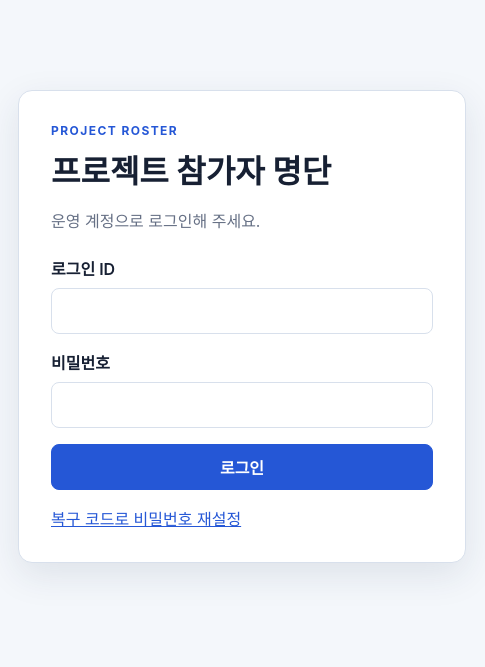
Test case: does not change a password when the confirmation differs
This screenshot has width=485, height=667.
Type "manager-01" into the field labelled "로그인 ID". click: (242, 310)
box: [51,288,433,334]
Type "temporary-password-123" into the password field labelled "비밀번호". click: (242, 404)
box: [51,382,433,428]
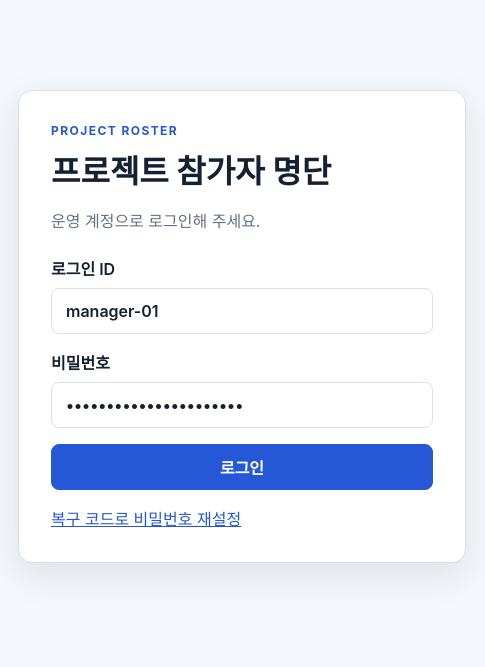
Click the button "로그인". click: (242, 466)
box: [51,444,433,490]
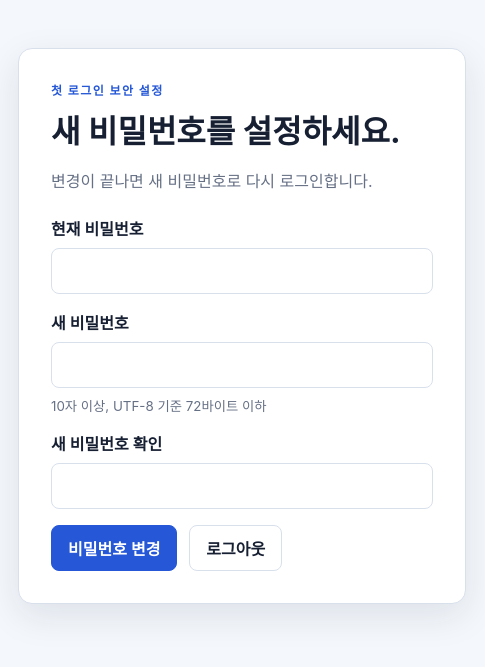
Now the heading "새 비밀번호를 설정하세요." is shown, box [51,106,433,152]
Type "temporary-password-123" into the password field labelled "현재 비밀번호". click: (242, 271)
box: [51,248,433,294]
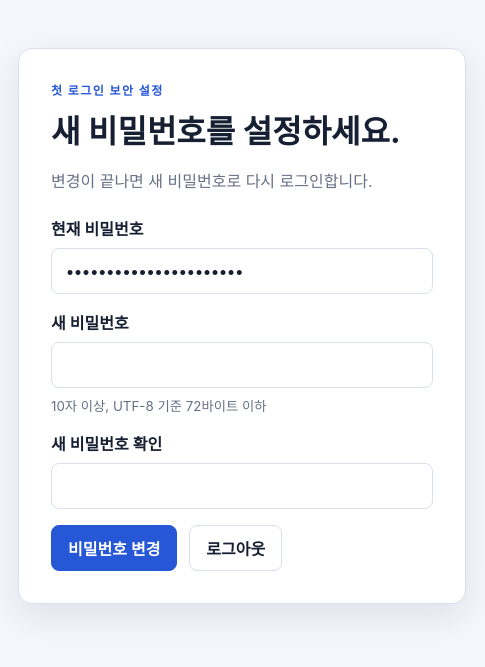
Type "new-password-123" into the password field labelled "새 비밀번호 10자 이상, UTF-8 기준 72바이트 이하". click: (242, 365)
box: [51,342,433,388]
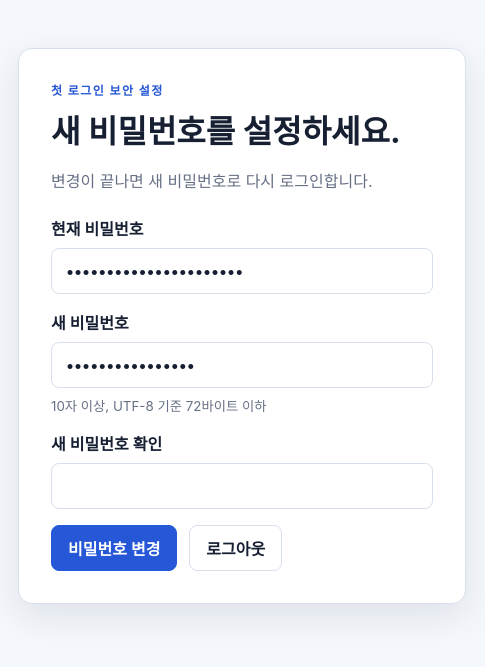
Type "different-password-123" into the password field labelled "새 비밀번호 확인". click: (242, 486)
box: [51,463,433,509]
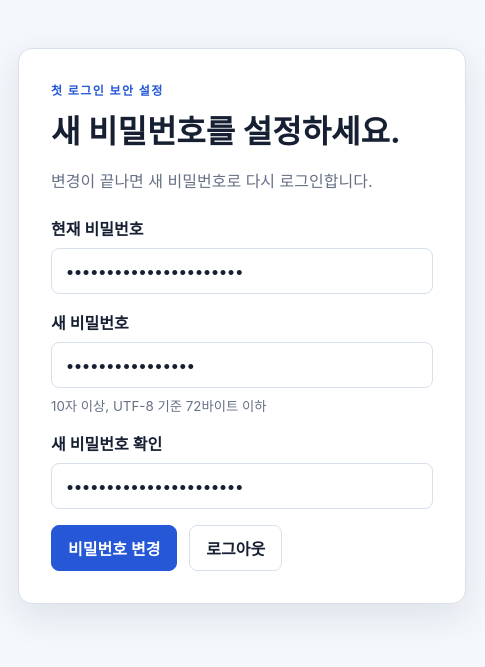
Click the button "비밀번호 변경". click: (114, 548)
box: [51,525,177,571]
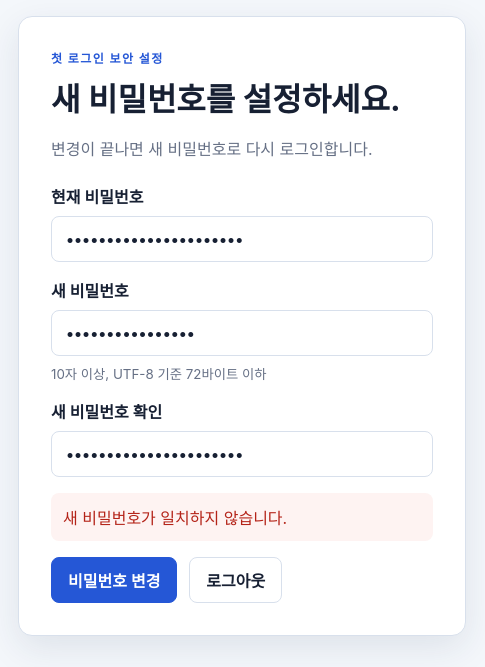
Now the text "새 비밀번호가 일치하지 않습니다." is shown, box [51,493,433,541]
